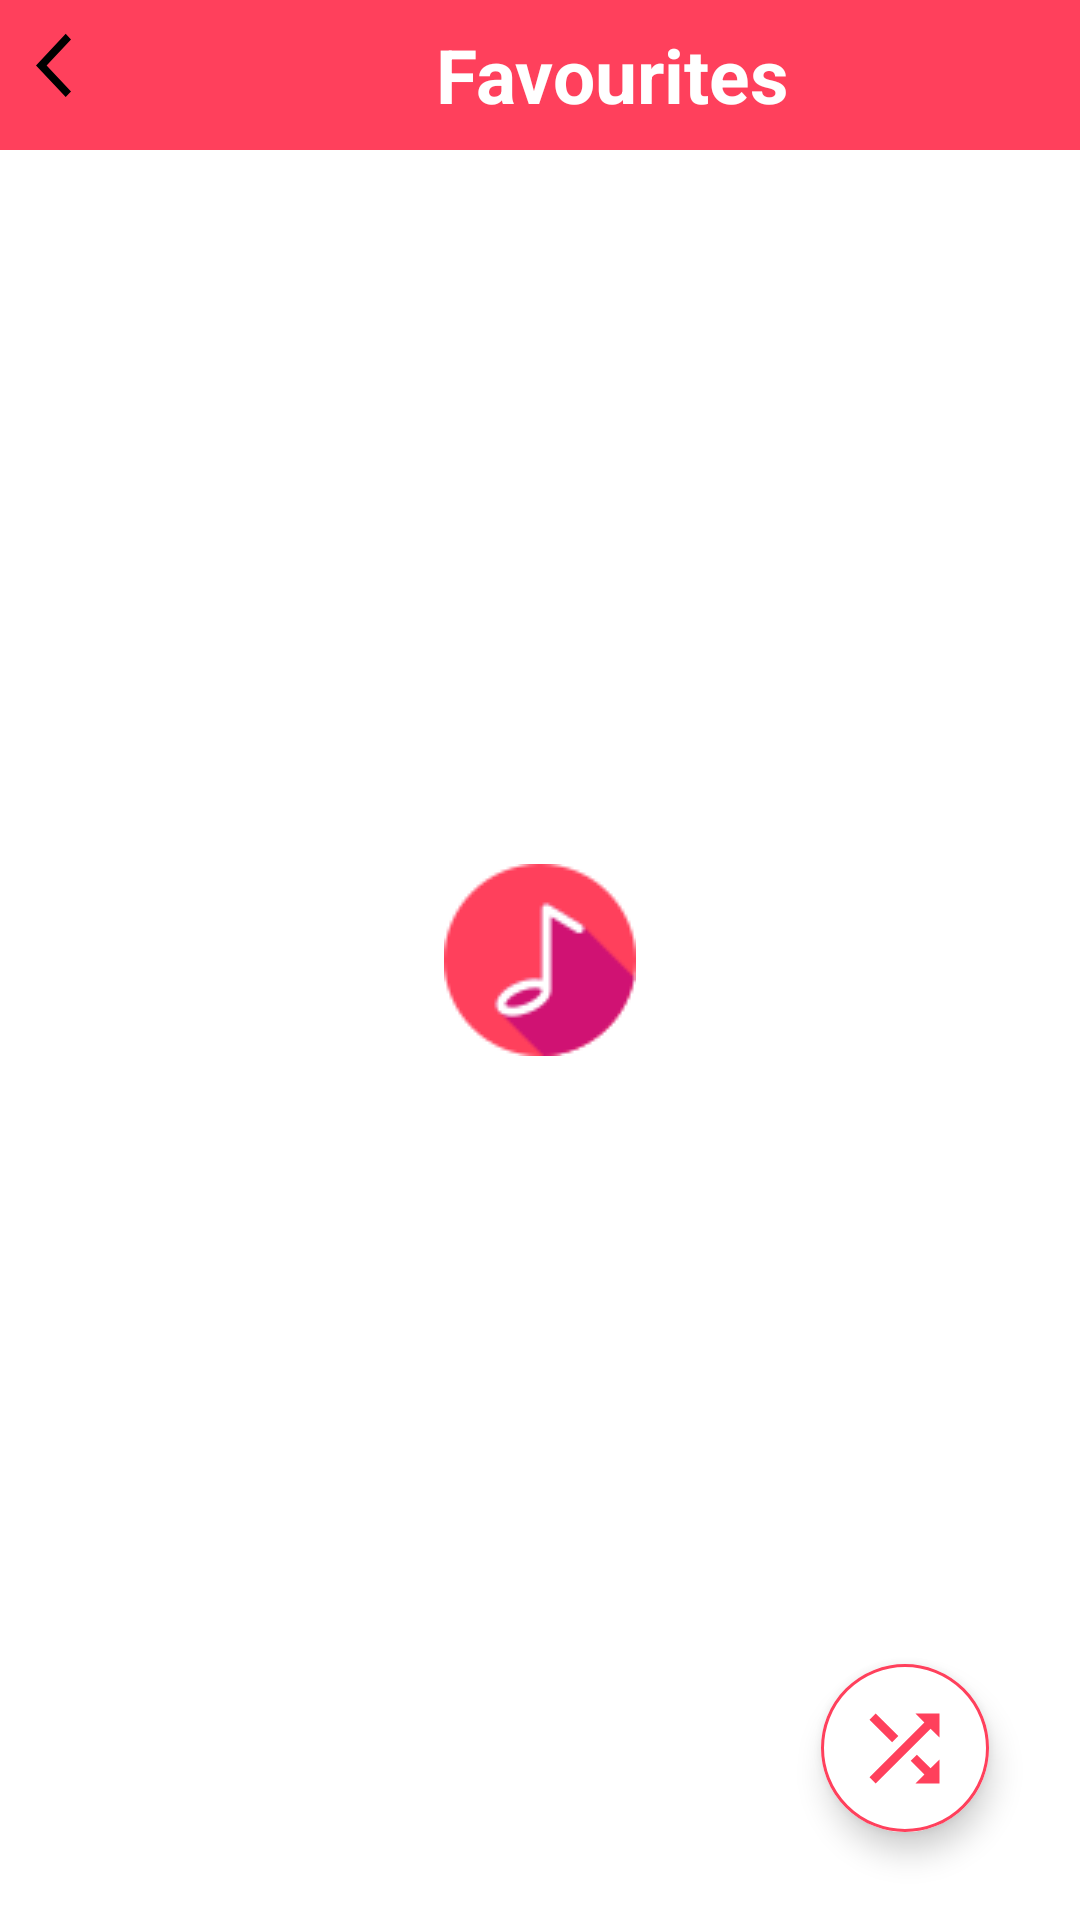

Icons on this 1080*1920 Android screen, each with the point to tap as [x,y]:
Back: [53,65]
shuffle: [905,1748]
